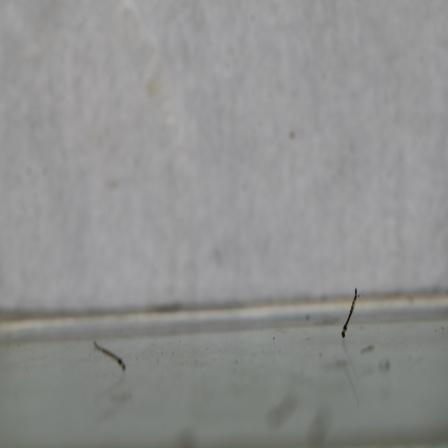Jentik-Nyamuk: (336, 282, 362, 342), (90, 338, 130, 376)
